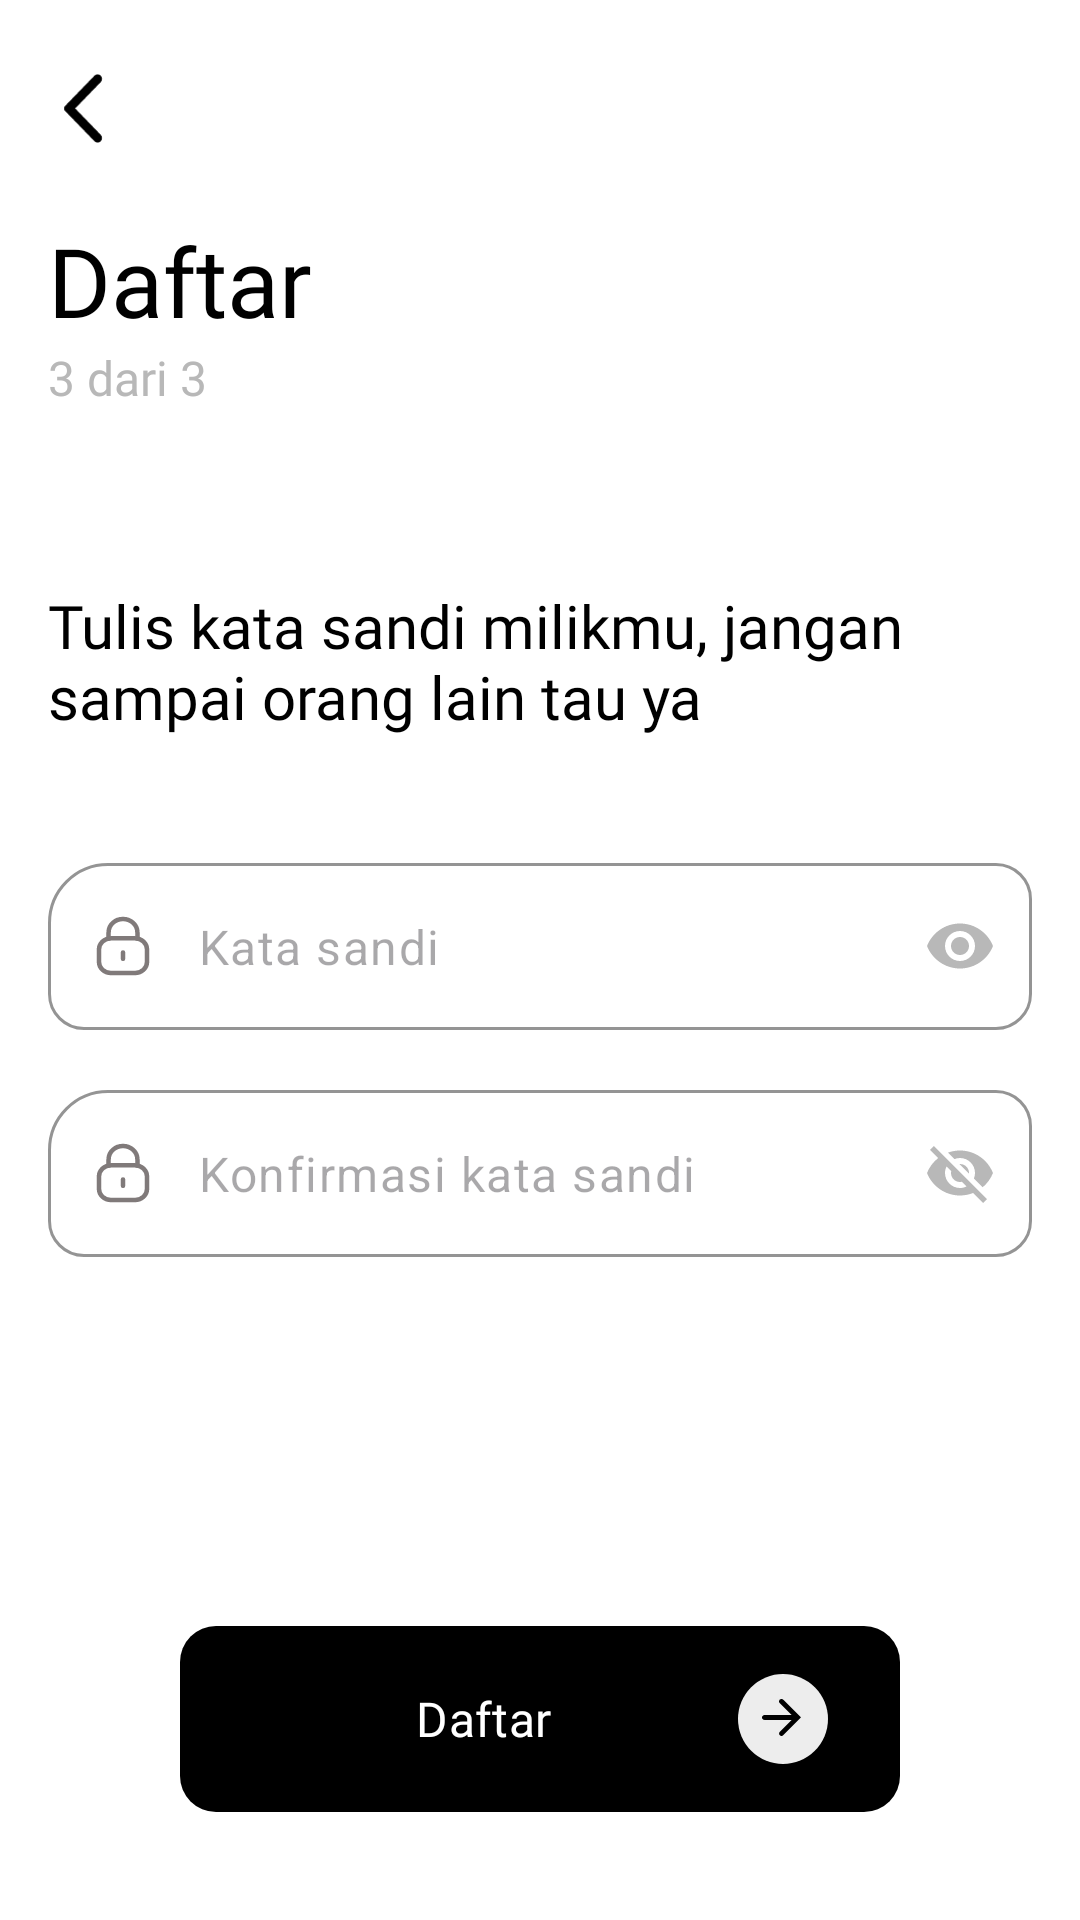

Icon click points for this 1080w x 1920h phone screenshot, format (x=x, y=y):
back: (x=83, y=108)
